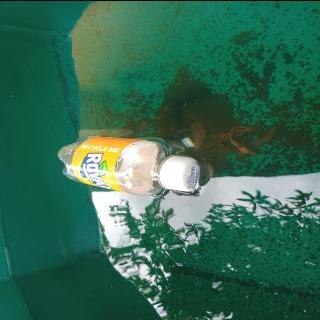bottle: (56, 133, 203, 197)
